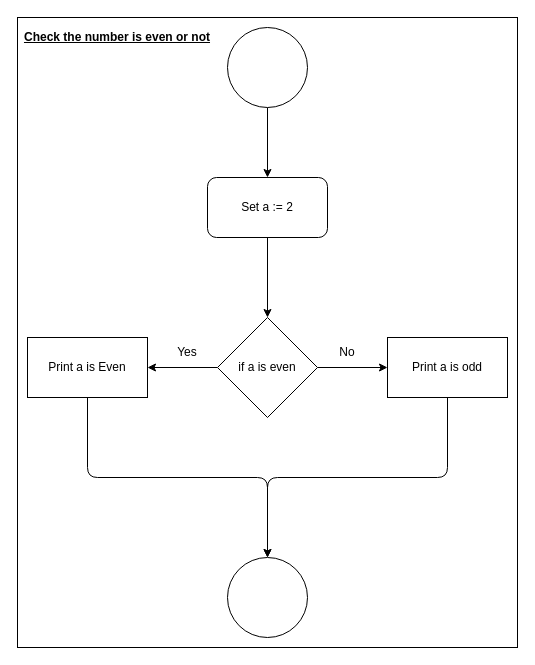
This 535x665 diagram has some shape labels left out. The centre of each missing label's shape, as x and y in pixels:
End: pixel 267 597
Start: pixel 267 67
